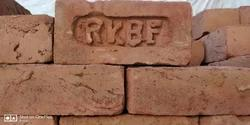brick: (54, 1, 191, 64), (128, 68, 250, 115), (0, 15, 52, 64), (205, 8, 240, 30), (226, 25, 249, 57), (239, 6, 249, 24)
